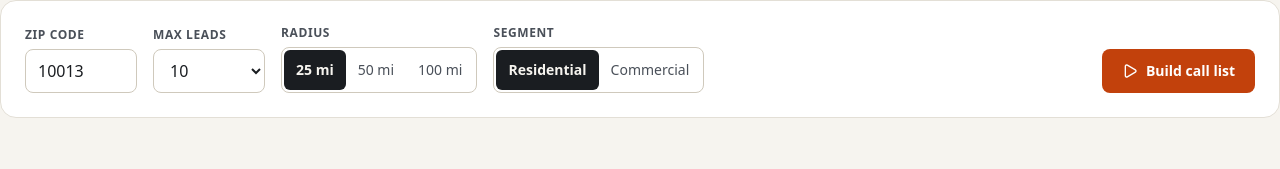
RunPanel form › starts a run with the chosen parameters and shows progress
The width and height of the screenshot is (1280, 169).
Click the button "50 mi" at (376, 70), box [346,50,406,90]
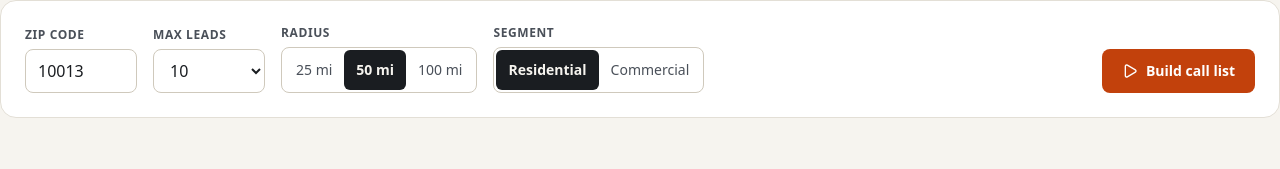
Click the button "Build call list" at (1178, 71), box [1102,49,1255,93]
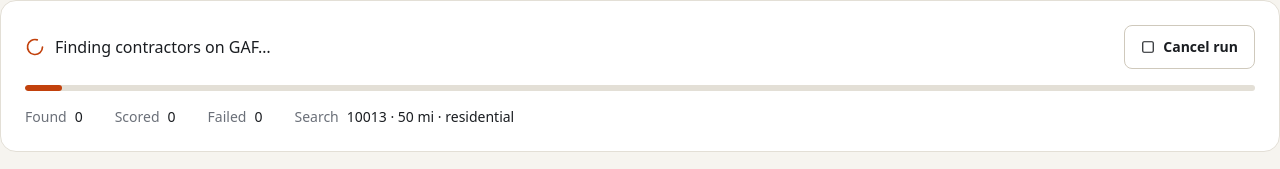
Now the text "Finding contractors on GAF…" is shown, box [55,35,271,59]
